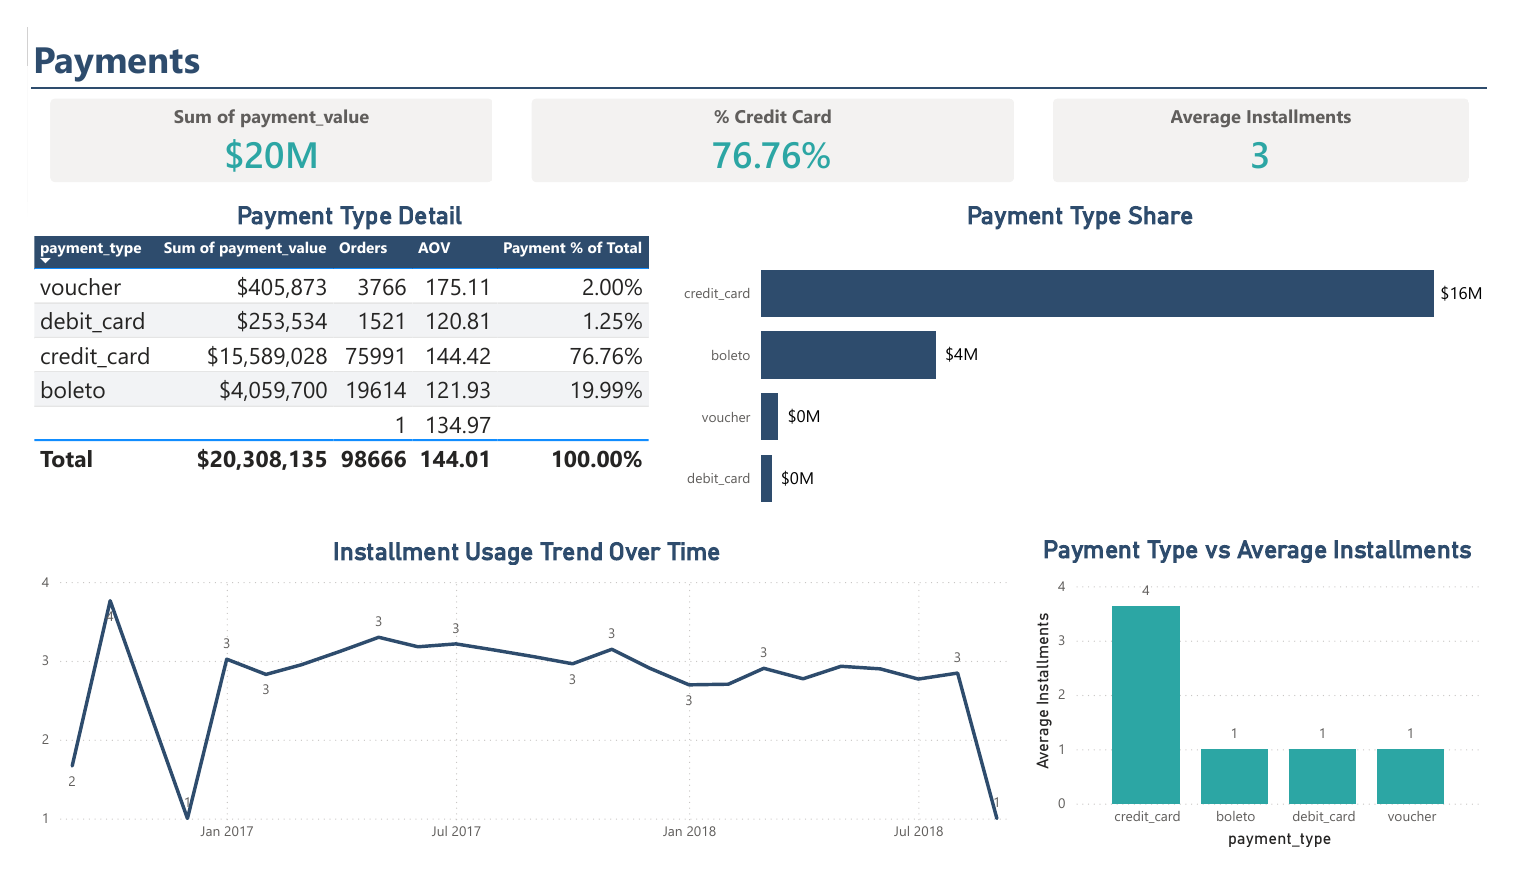

This screenshot's page, from the dashboard's own definition file:
{"tool":"powerbi","page":{"name":"Payments","canvas":[1280,720],"ordinal":6},"visuals":[{"type":"textbox","box":[0,0,1280.8,53.4],"z":0},{"type":"shape","box":[3.2,47,1271.1,11.3],"z":1000},{"type":"cardVisual","title":"Total Payment Value","fields":{"Data":["Sum(public bi_fact_sales.payment_value)"]},"box":[3.3,45,420,106.7],"z":2000},{"type":"cardVisual","title":"Average Installments","fields":{"Data":["public bi_fact_sales.Average Installments"]},"box":[878.3,45,396.7,106.7],"z":3000},{"type":"cardVisual","title":"% Paid via Credit Card","fields":{"Data":["public bi_fact_sales.% Credit Card"]},"box":[423.3,45,455,106.7],"z":4000},{"type":"barChart","title":"Payment Type Share","fields":{"Category":["public bi_fact_sales.payment_type"],"Y":["Sum(public bi_fact_sales.payment_value)"]},"box":[563.3,151.7,711.7,290],"z":5000},{"type":"columnChart","title":"Payment Type vs Average Installments","fields":{"Category":["public bi_fact_sales.payment_type"],"Y":["public bi_fact_sales.Average Installments"]},"box":[873.3,443.3,401.7,276.7],"z":6000},{"type":"lineChart","title":"Installment Usage Trend Over Time","fields":{"Category":["DimDate.MonthStart"],"Y":["public bi_fact_sales.Average Installments"]},"box":[0,445,873.3,275],"z":7000},{"type":"tableEx","title":"Payment Type Detail","fields":{"Values":["public bi_fact_sales.payment_type","Sum(public bi_fact_sales.payment_value)","public bi_fact_sales.Orders","public bi_fact_sales.AOV","public bi_fact_sales.Payment % of Total"]},"box":[0,151.7,563.3,291.7],"z":8000}]}

Visuals, with their boxes in screenshot pixels (x1, y1, x2, y2), scaled from the page's 1280x720 canvas onto the 1522x880 screenshot:
textbox: [0, 0, 1521, 65]
shape: [4, 57, 1515, 71]
"Total Payment Value" cardVisual: [4, 55, 503, 185]
"Average Installments" cardVisual: [1044, 55, 1516, 185]
"% Paid via Credit Card" cardVisual: [503, 55, 1044, 185]
"Payment Type Share" barChart: [670, 185, 1516, 540]
"Payment Type vs Average Installments" columnChart: [1038, 542, 1516, 879]
"Installment Usage Trend Over Time" lineChart: [0, 544, 1038, 879]
"Payment Type Detail" tableEx: [0, 185, 670, 542]
